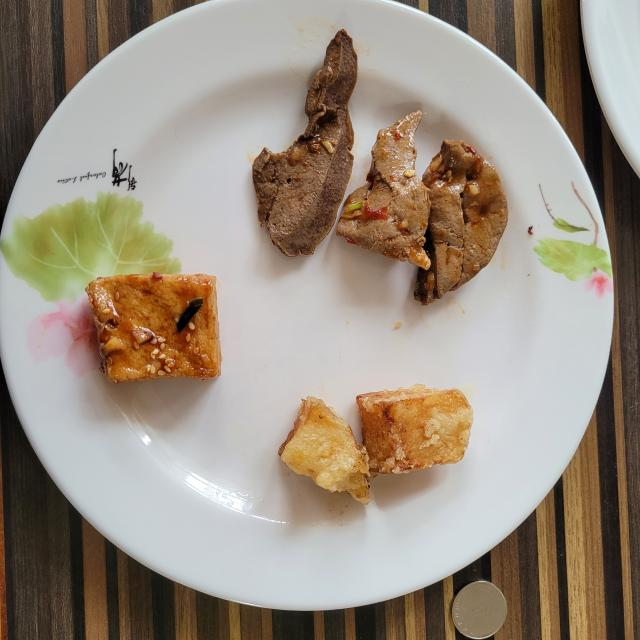coin: (451, 580, 508, 640)
creamy tofu: (86, 272, 221, 382)
fried potato: (279, 385, 472, 504)
pig liver: (336, 111, 508, 305), (252, 30, 358, 256)
